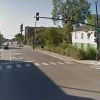crosswalk: (0, 60, 71, 70)
